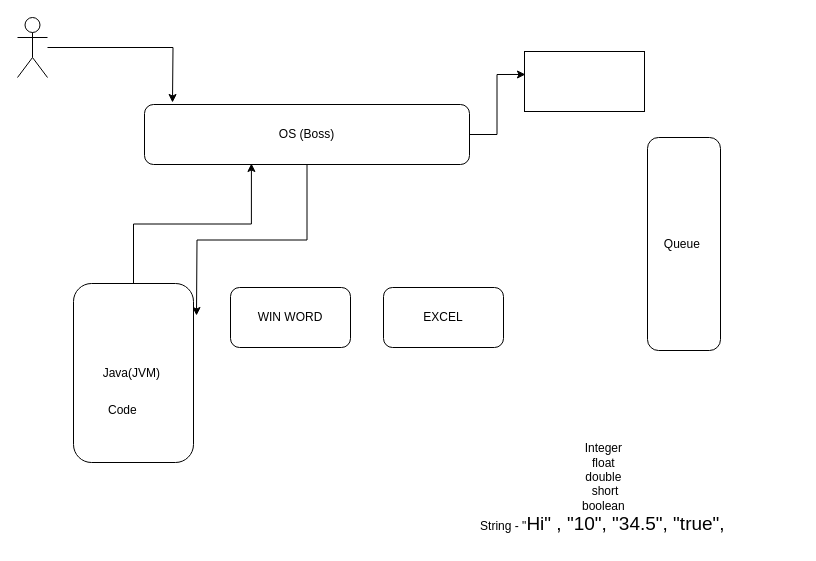
Image size: 816x561. Some labels were removed from this diagram. The shapes that lost their labels are listed below. From the top down, each one's centre as x and y in pixels, then its label:
At point (32, 47): "Actor".
At point (584, 81): "Processor".
